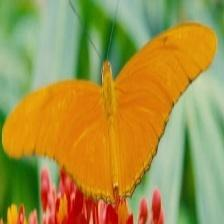butterfly: (3, 23, 218, 202)
